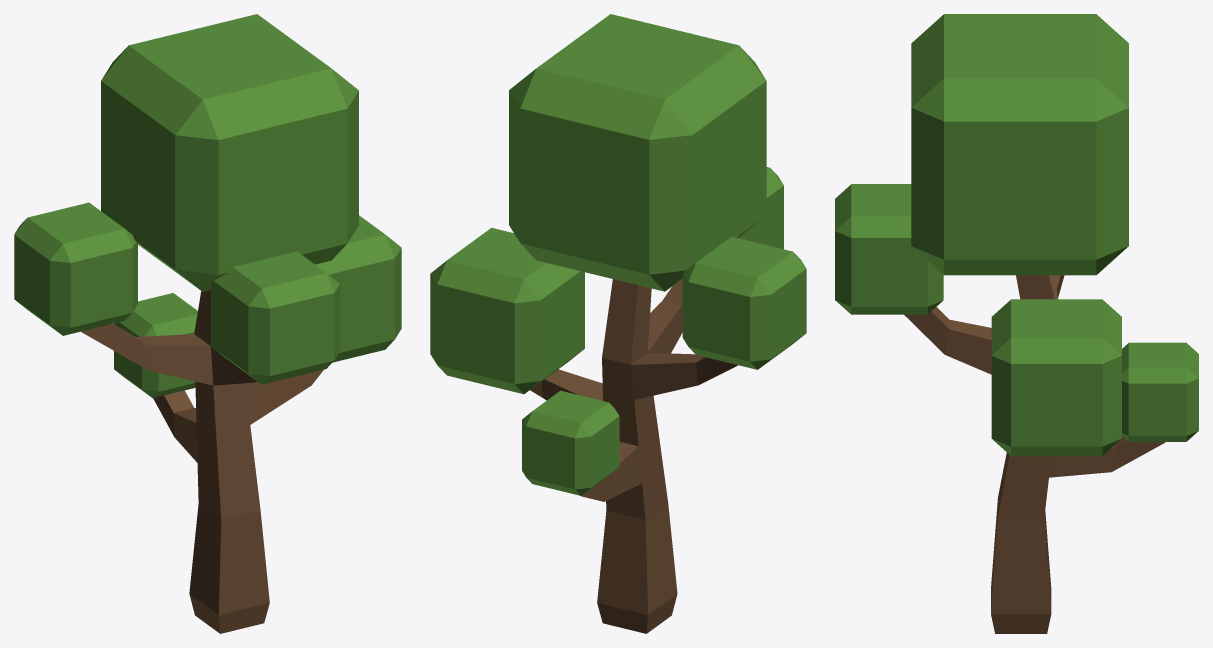
Rendered from tree_detailed.glb.
3 renders of one model, left to right at view 1: azimuth 30°, elevation 25°; view 2: azimuth 150°, elevation 25°; view 3: azimuth 270°, elevation 25°, orthographic. The views are drawn at different scales.
Parts seen in each view (by area): view 1: tree_detailed; view 2: tree_detailed; view 3: tree_detailed.
Part boxes in pixels (x1,y1,x2,y2): tree_detailed: [14, 14, 401, 633]; tree_detailed: [430, 14, 806, 633]; tree_detailed: [835, 14, 1198, 633].
Size of the model in its own units: 4.24 by 6.66 by 3.81.
